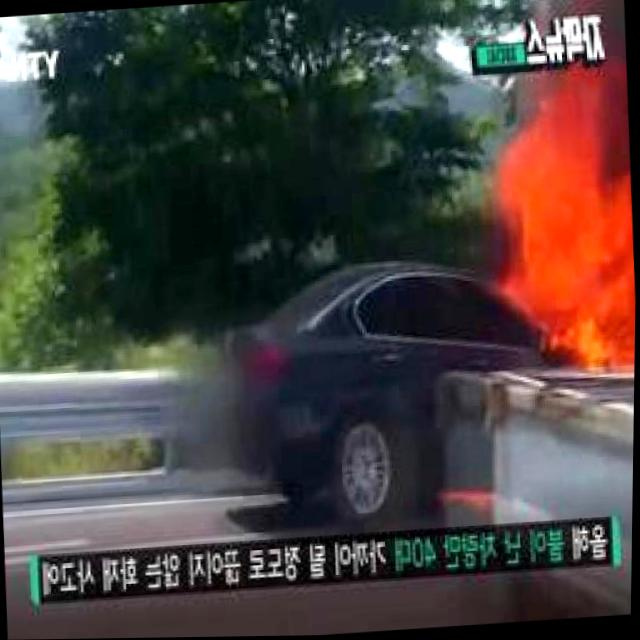Fire: (481, 60, 639, 381)
